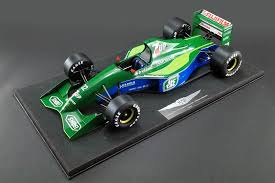f1_car: (36, 5, 247, 147)
